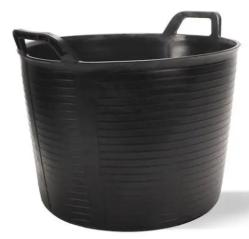SEAU: (5, 5, 249, 239)
